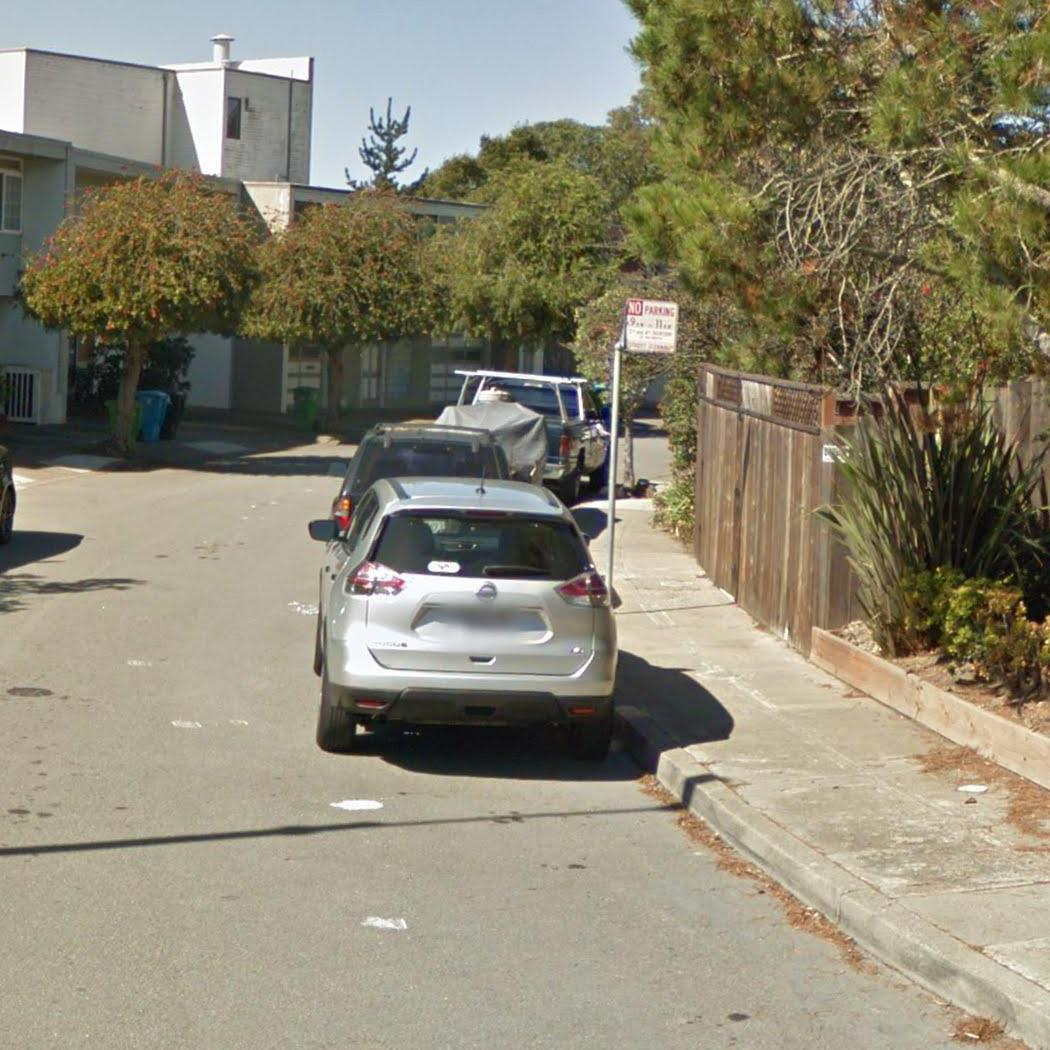No Parking: (624, 296, 677, 355)
